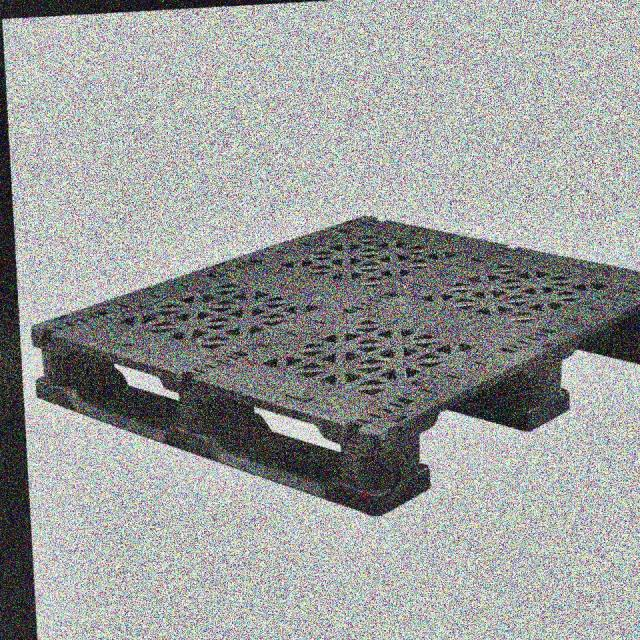non-igps: (26, 207, 640, 521)
